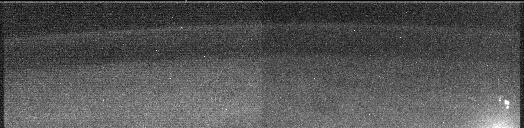positive: (496, 93, 511, 113)
